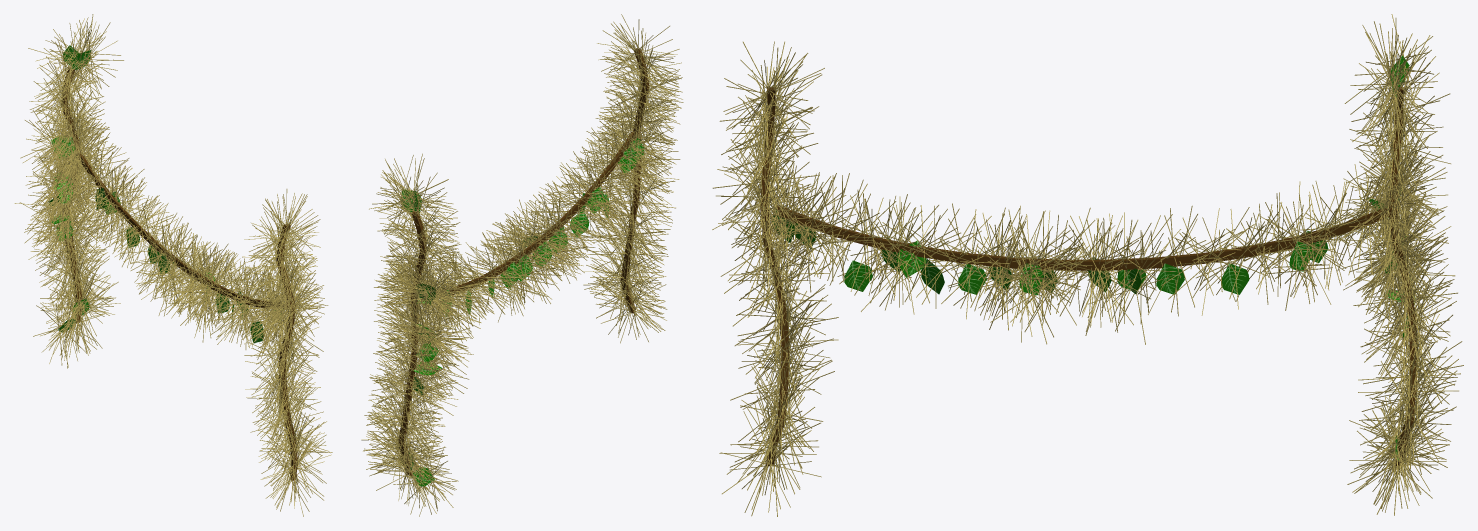
Rendered from kapı2.fbx.
3 renders of one model, left to right at view 1: azimuth 30°, elevation 25°; view 2: azimuth 150°, elevation 25°; view 3: azimuth 270°, elevation 25°, orthographic. The views are drawn at different scales.
Visible parts, largest first — view 1: kapı1; view 2: kapı1; view 3: kapı1.
Boxes of the visible parts, <box> form: kapı1: <box>14,14,332,516</box>; kapı1: <box>361,14,683,516</box>; kapı1: <box>712,14,1463,516</box>.
Size of the model in its own units: 163 by 519 by 705.
